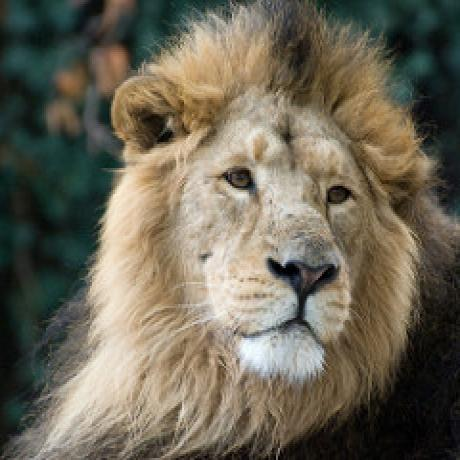Lion: (39, 0, 460, 460)
